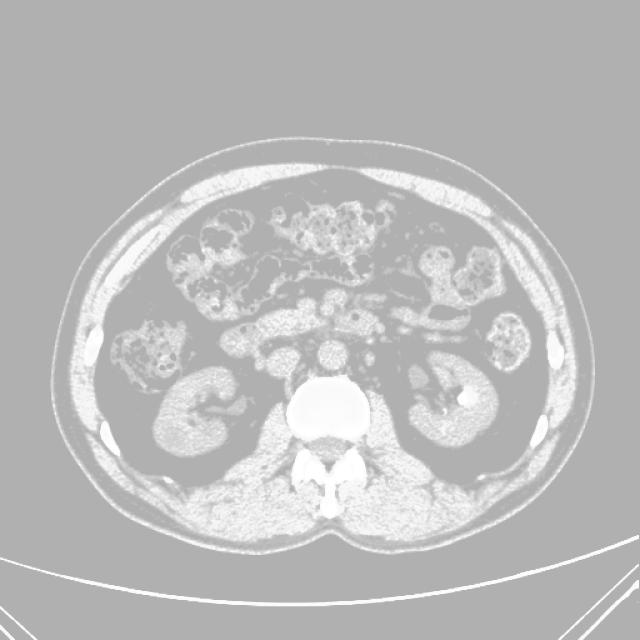STONE: (143, 270, 520, 456)
